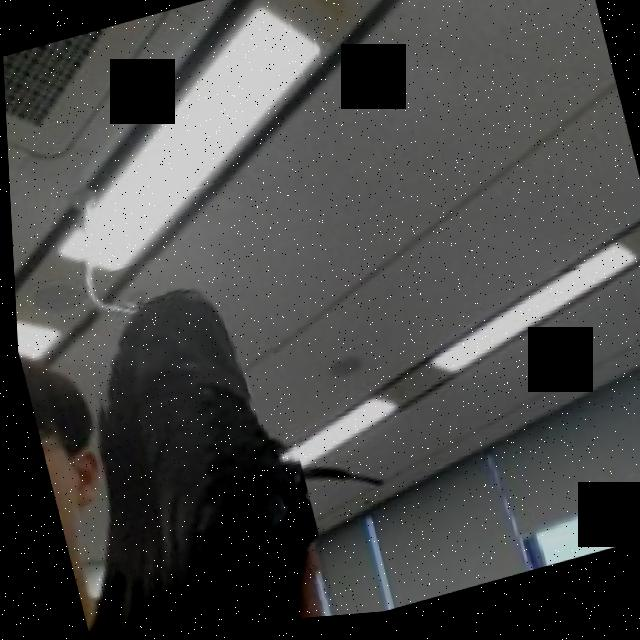shoe: (58, 233, 333, 637)
